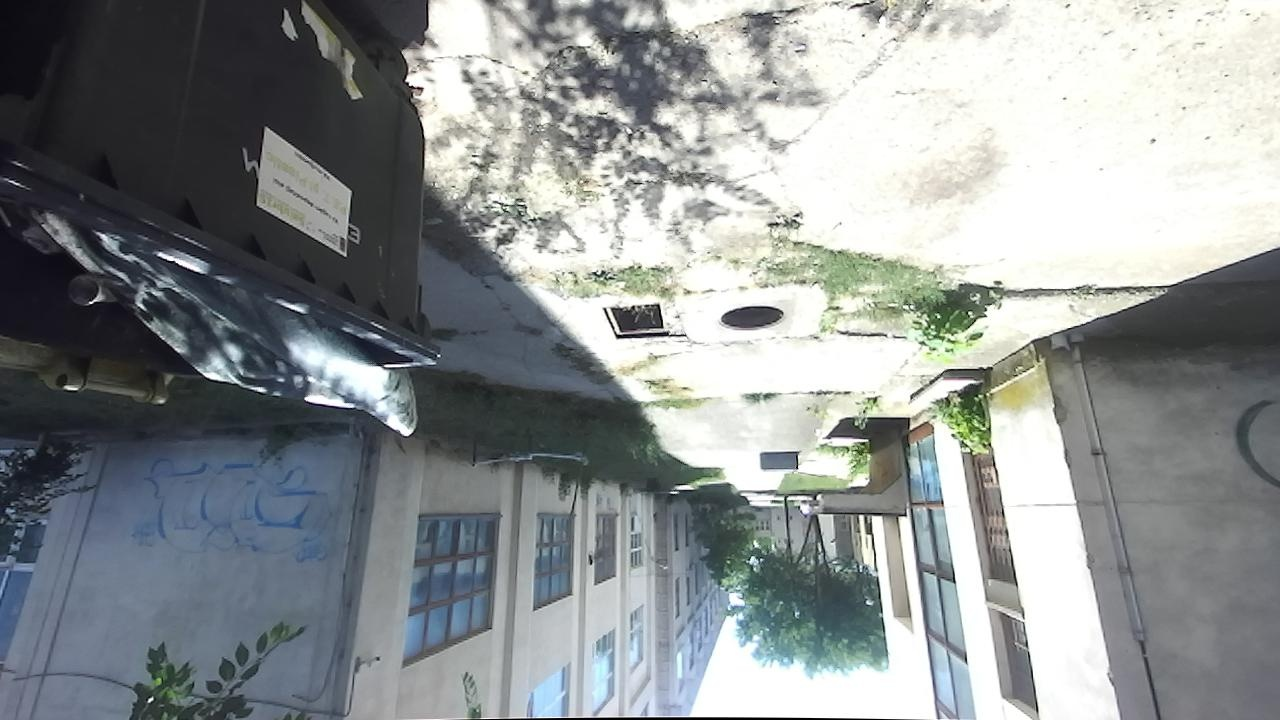drain: (715, 299, 790, 341), (603, 301, 671, 338)
